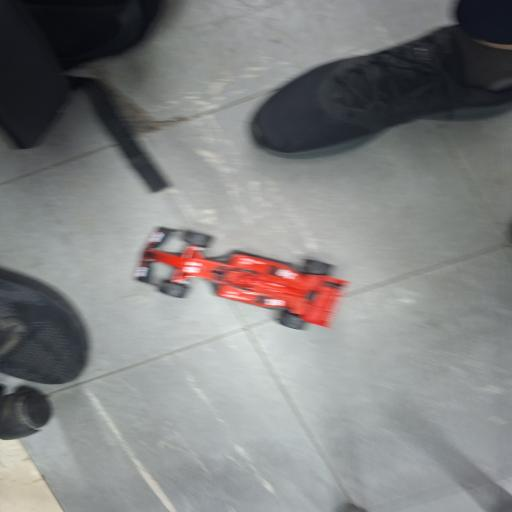carro: (135, 228, 348, 328)
